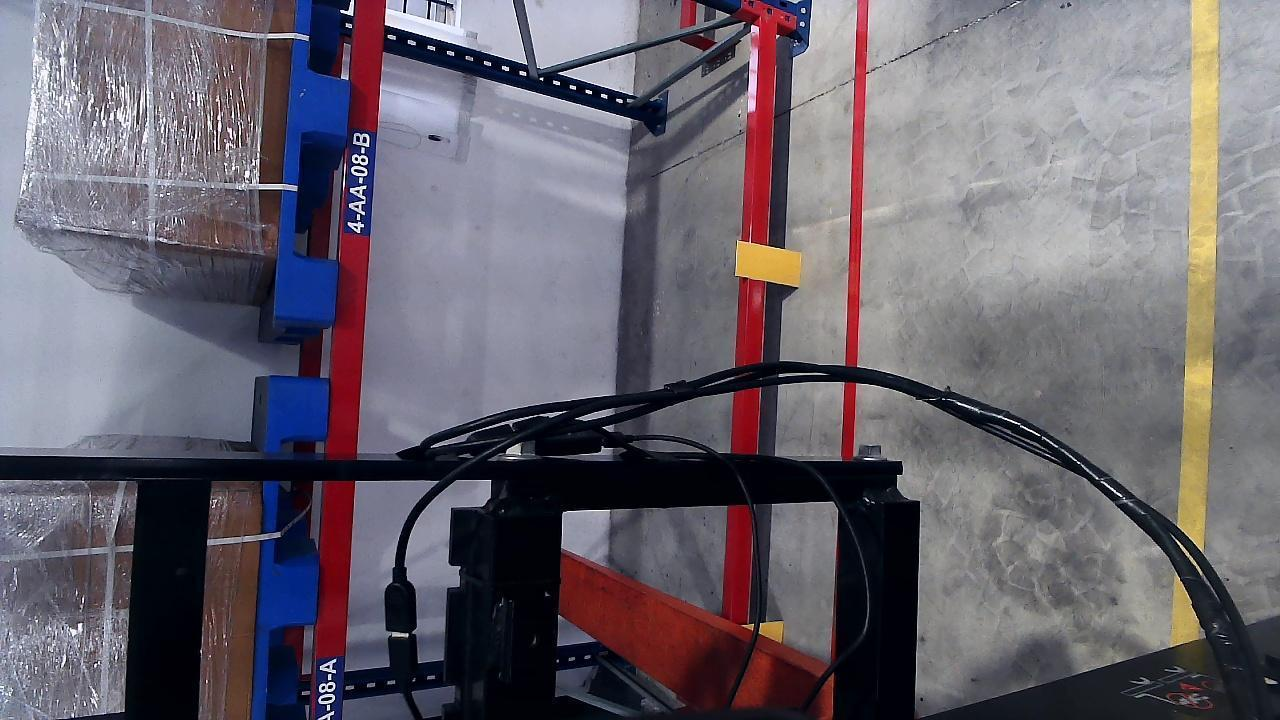red_line: (838, 1, 868, 458)
yellow_line: (1178, 3, 1220, 599)
